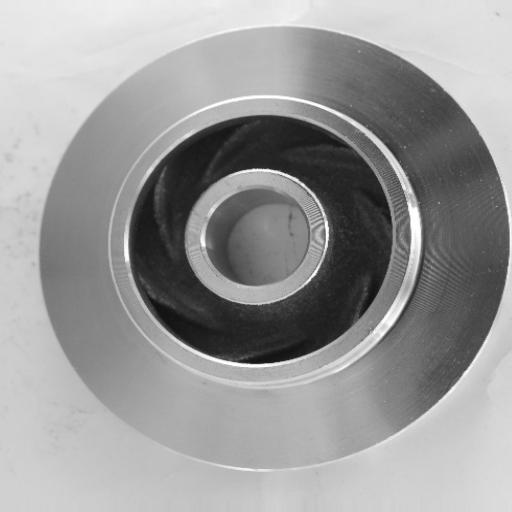polished_casting: (37, 24, 510, 473)
